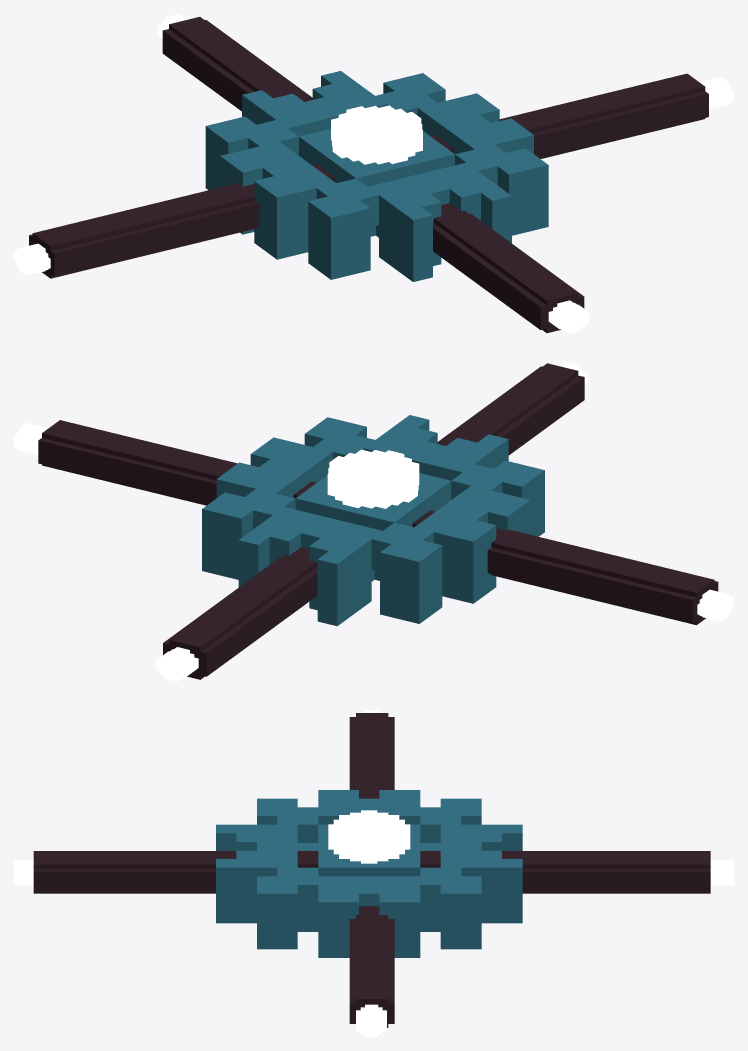
File: engel1.fbx
3 views of the same model, one above another, from view 1: azimuth 30°, elevation 25°; view 2: azimuth 150°, elevation 25°; view 3: azimuth 270°, elevation 25° (orthographic). The views are drawn at different scales.
Parts seen in each view (by area): view 1: Gear, Cylinder.028, Cylinder.027, Gear.001, Cylinder.029, Cylinder.032, Cylinder.031; view 2: Gear, Cylinder.028, Cylinder.027, Gear.001, Cylinder.030, Cylinder.032, Cylinder.031; view 3: Gear, Cylinder.027, Cylinder.028, Gear.001, Cylinder.031, Cylinder.030.
Boxes of the visible parts, x1,y1,x2,y2 form: Gear: (205, 71, 548, 281); Cylinder.028: (29, 73, 708, 278); Cylinder.027: (162, 17, 584, 333); Gear.001: (331, 105, 422, 164); Cylinder.029: (548, 300, 589, 333); Cylinder.032: (14, 243, 50, 275); Cylinder.031: (699, 77, 733, 109); Gear: (202, 415, 544, 626); Cylinder.028: (38, 420, 718, 625); Cylinder.027: (163, 363, 584, 679); Gear.001: (327, 449, 419, 508); Cylinder.030: (155, 647, 198, 681); Cylinder.032: (697, 589, 733, 621); Cylinder.031: (14, 423, 48, 454); Gear: (216, 790, 522, 957); Cylinder.027: (33, 851, 710, 893); Cylinder.028: (349, 713, 394, 1027); Gear.001: (328, 810, 410, 863); Cylinder.031: (356, 1004, 386, 1036); Cylinder.030: (710, 860, 733, 885).
Bounding box in the file's own units: 1394 × 157 × 1382.
